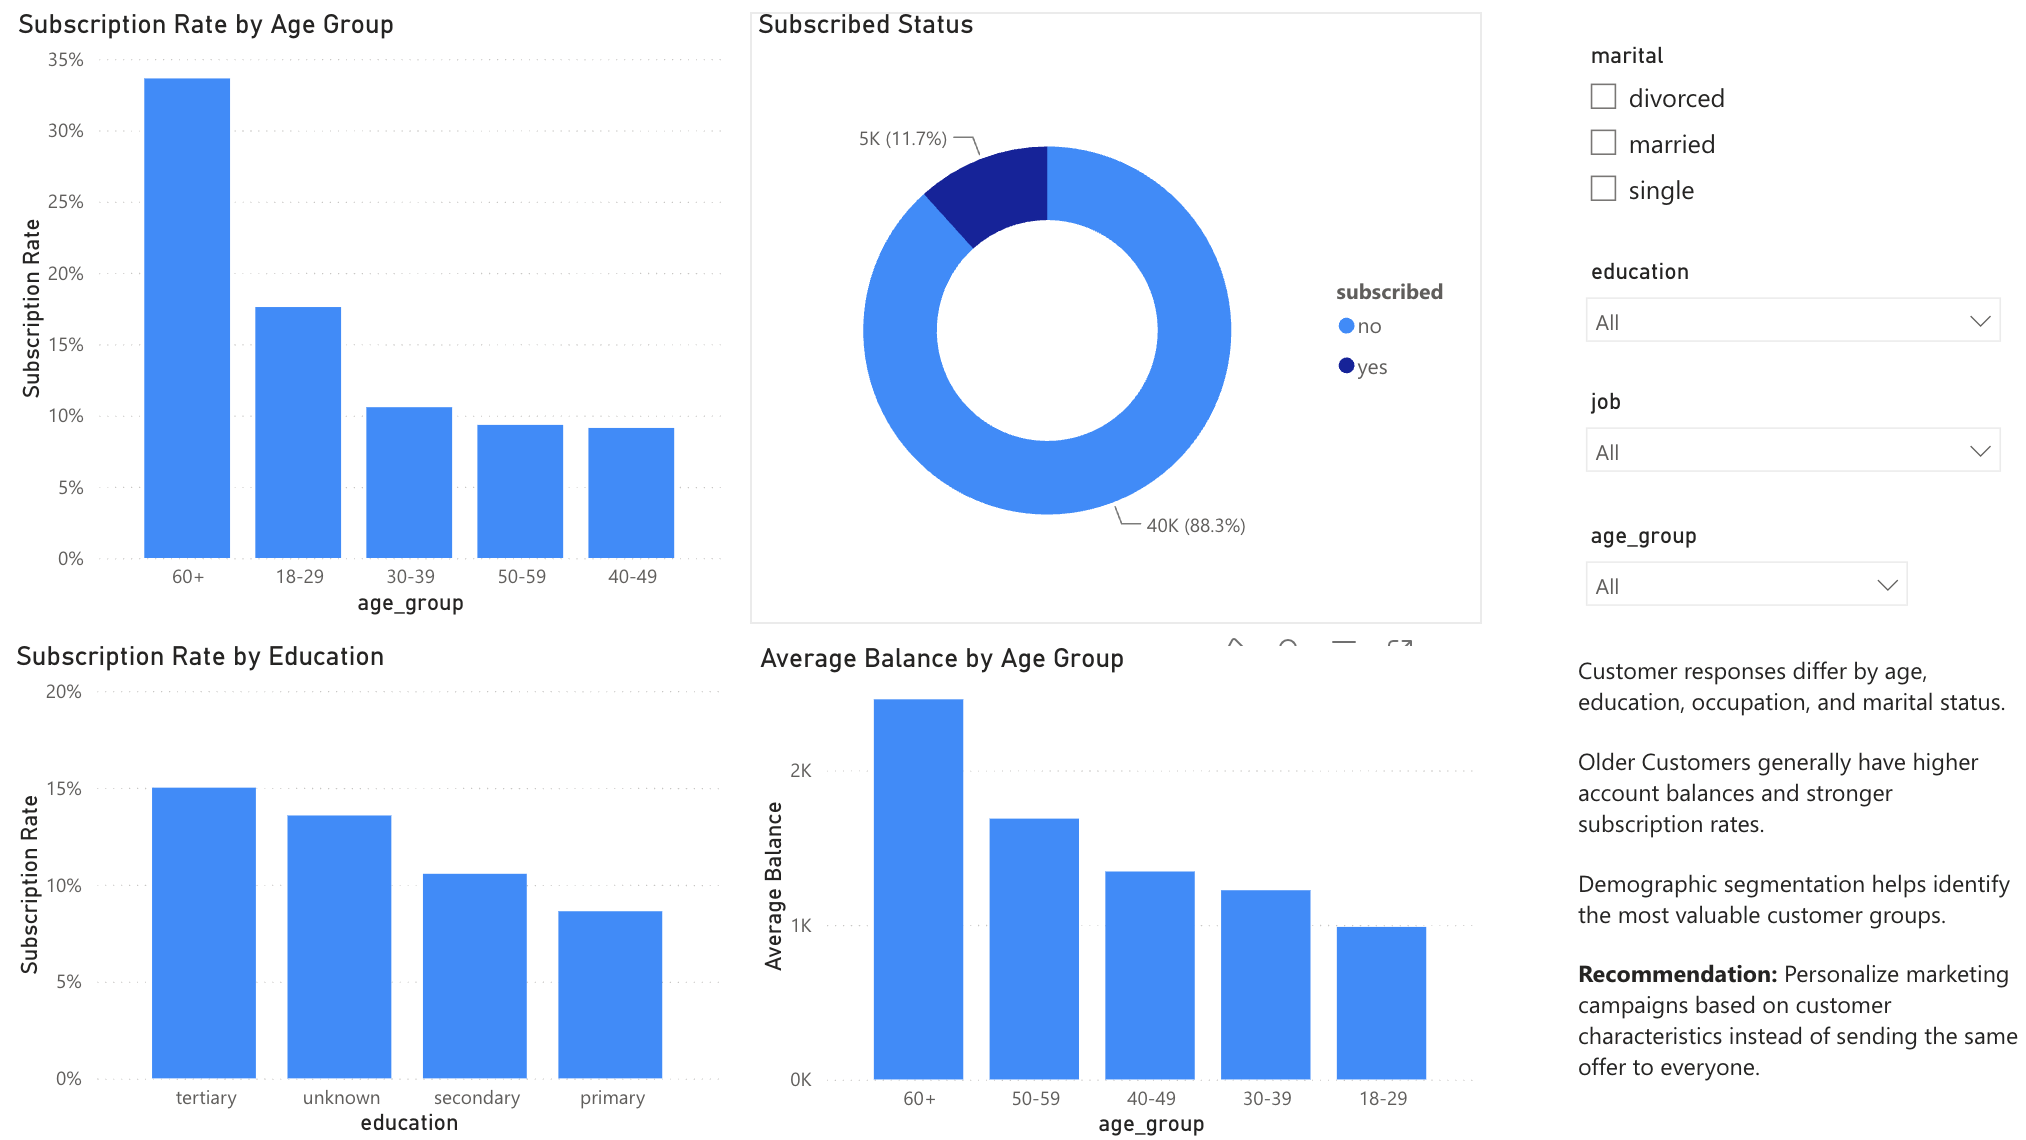

This screenshot's page, from the dashboard's own definition file:
{"tool":"powerbi","page":{"name":"Customer Segmentation","canvas":[1280,720],"ordinal":1},"visuals":[{"type":"clusteredColumnChart","title":"Subscription Rate by Age Group","fields":{"Category":["bank_campaign_dashboard.age_group"],"Y":["bank_campaign_dashboard.Subscription Rate"]},"box":[9.8,8.6,452.4,383.8],"z":0},{"type":"donutChart","title":"Subscribed Status","fields":{"Category":["bank_campaign_dashboard.subscribed"],"Y":["bank_campaign_dashboard.Total Customers"]},"box":[475.7,8.6,459.8,385],"z":2},{"type":"slicer","fields":{"Values":["bank_campaign_dashboard.job"]},"box":[990.7,241.5,280.8,76],"z":3},{"type":"slicer","fields":{"Values":["bank_campaign_dashboard.age_group"]},"box":[990.8,325.7,222.6,66.6],"z":4},{"type":"slicer","fields":{"Values":["bank_campaign_dashboard.education"]},"box":[990.7,159.4,280.8,73.6],"z":5},{"type":"slicer","fields":{"Values":["bank_campaign_dashboard.marital"]},"box":[990.9,23.3,256,136],"z":6},{"type":"clusteredColumnChart","title":"Subscription Rate by Education","fields":{"Category":["bank_campaign_dashboard.education"],"Y":["bank_campaign_dashboard.Subscription Rate"]},"box":[8.6,406.7,453.2,313.6],"z":7},{"type":"clusteredColumnChart","title":"Average Balance by Age Group","fields":{"Category":["bank_campaign_dashboard.age_group"],"Y":["bank_campaign_dashboard.Average Balance"]},"box":[476,407,460,313],"z":8},{"type":"textbox","box":[990.8,407.4,289.2,313.1],"z":9}]}

Visuals, with their boxes in screenshot pixels (x1, y1, x2, y2), scaled from the page's 1280x720 canvas onto the 2026x1140 screenshot:
"Subscription Rate by Age Group" clusteredColumnChart: locate(16, 14, 732, 621)
"Subscribed Status" donutChart: locate(753, 14, 1481, 623)
slicer - bank_campaign_dashboard.job: locate(1568, 382, 2013, 503)
slicer - bank_campaign_dashboard.age_group: locate(1568, 516, 1921, 621)
slicer - bank_campaign_dashboard.education: locate(1568, 252, 2013, 369)
slicer - bank_campaign_dashboard.marital: locate(1568, 37, 1974, 252)
"Subscription Rate by Education" clusteredColumnChart: locate(14, 644, 731, 1139)
"Average Balance by Age Group" clusteredColumnChart: locate(753, 644, 1482, 1139)
textbox: locate(1568, 645, 2025, 1139)
